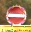No entry: (5, 6, 26, 27)
